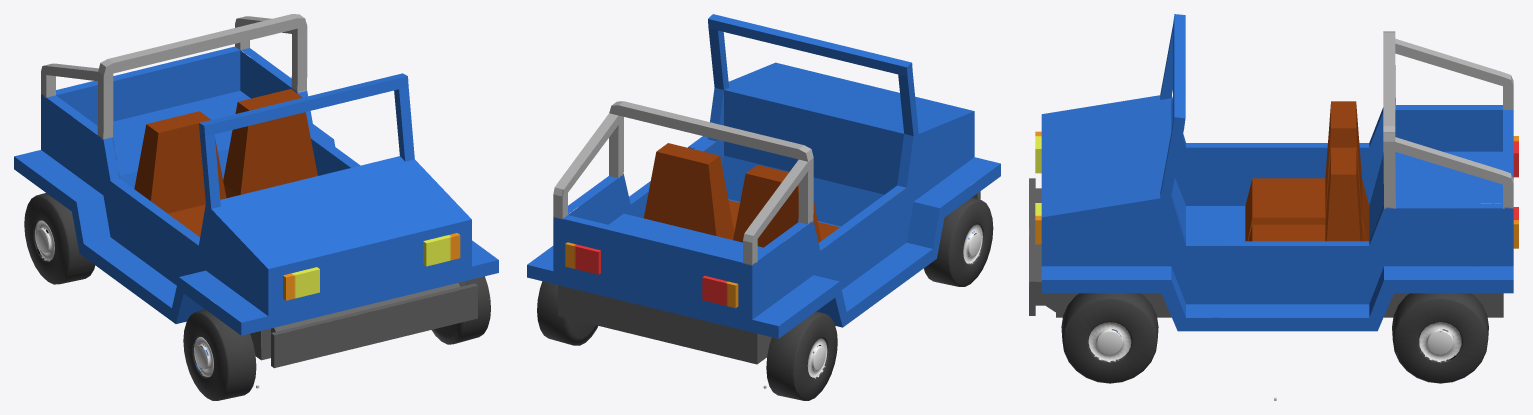
Rendered from low-poly-jeep2.glb.
The picture shows the model from 3 angles, left to right: view 1: azimuth 30°, elevation 25°; view 2: azimuth 150°, elevation 25°; view 3: azimuth 270°, elevation 25°; orthographic projection. The views are drawn at different scales.
Visible parts, largest first — view 1: Cube.002; view 2: Cube.002; view 3: Cube.002.
Boxes of the visible parts, <box> form: Cube.002: <box>14,14,498,400</box>; Cube.002: <box>527,14,1000,400</box>; Cube.002: <box>1029,14,1518,383</box>.
Bounding box in the file's own units: 258 × 293 × 388.
Materials: 2 (1 with a texture image).
